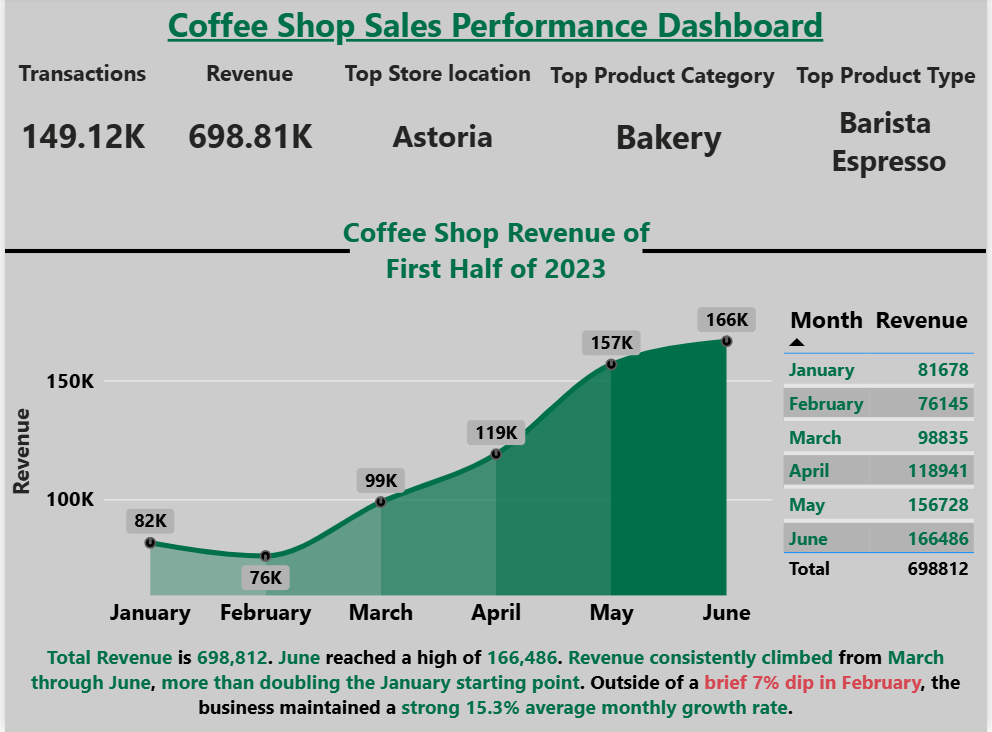

What the dashboard file says about the page in this screenshot:
{"tool":"powerbi","page":{"name":"Revenue Overview","canvas":[960,720],"ordinal":0},"visuals":[{"type":"textbox","box":[0,0,959.7,60.2],"z":0},{"type":"card","title":"Transactions","fields":{"Values":["CountNonNull(Transactions (2).transaction_id)"]},"box":[0,60.2,151.1,145.5],"z":0,"group":"g1"},{"type":"group","id":"g1","title":"Group 1","box":[0,60.2,959.7,146.5],"z":1000},{"type":"card","title":"Top Store location","fields":{"Values":["Min(Transactions (2).store_location)"]},"box":[327.2,60.2,201,145.5],"z":1000,"group":"g1"},{"type":"card","title":"Top  Product Category","fields":{"Values":["Min(Transactions (2).product_category)"]},"box":[528.3,61.4,240.7,145],"z":2000,"group":"g1"},{"type":"group","id":"g2","title":"Group 2","box":[0,292,959.7,350.7],"z":2000},{"type":"lineChart","title":" ","fields":{"Category":["Transactions (2).transaction_month_year.Variation.Date Hierarchy.Month"],"Y":["Sum(Transactions (2).revenue)"]},"box":[0,292,755.7,336],"z":2000,"group":"g3"},{"type":"card","title":"Top Product Type","fields":{"Values":["Min(Transactions (2).product_type)"]},"box":[768.9,61.7,190.8,145],"z":3000,"group":"g1"},{"type":"textbox","box":[322.3,206.9,315.5,85.1],"z":3000},{"type":"card","title":"Revenue","fields":{"Values":["Sum(Transactions (2).revenue)"]},"box":[151.1,60.2,176.1,145.5],"z":4000,"group":"g1"},{"type":"shape","box":[0,206.9,337.5,85.1],"z":4000},{"type":"tableEx","fields":{"Values":["Transactions (2).transaction_month_year.Variation.Date Hierarchy.Month","Sum(Transactions.revenue)"]},"box":[755.7,292,204,350.7],"z":4002,"group":"g3"},{"type":"shape","box":[623.7,206.9,336,85.1],"z":5000},{"type":"textbox","box":[0,628.1,959.7,92.4],"z":6000},{"type":"group","id":"g3","title":"Group 3","box":[0,292,959.7,350.7],"z":6001,"group":"g2"}]}

Visuals, with their boxes in screenshot pixels (x1, y1, x2, y2), scaled from the page's 960x720 canvas onto the 992x732 screenshot:
textbox: (x1=0, y1=0, x2=991, y2=61)
"Transactions" card: (x1=0, y1=61, x2=156, y2=209)
"Group 1" group: (x1=0, y1=61, x2=991, y2=210)
"Top Store location" card: (x1=338, y1=61, x2=546, y2=209)
"Top  Product Category" card: (x1=546, y1=62, x2=795, y2=210)
"Group 2" group: (x1=0, y1=297, x2=991, y2=653)
" " lineChart: (x1=0, y1=297, x2=781, y2=638)
"Top Product Type" card: (x1=795, y1=63, x2=991, y2=210)
textbox: (x1=333, y1=210, x2=659, y2=297)
"Revenue" card: (x1=156, y1=61, x2=338, y2=209)
shape: (x1=0, y1=210, x2=349, y2=297)
tableEx - Transactions (2).transaction_month_year.Variation.Date Hierarchy.Month x Sum(Transactions.revenue): (x1=781, y1=297, x2=991, y2=653)
shape: (x1=644, y1=210, x2=991, y2=297)
textbox: (x1=0, y1=639, x2=991, y2=731)
"Group 3" group: (x1=0, y1=297, x2=991, y2=653)
